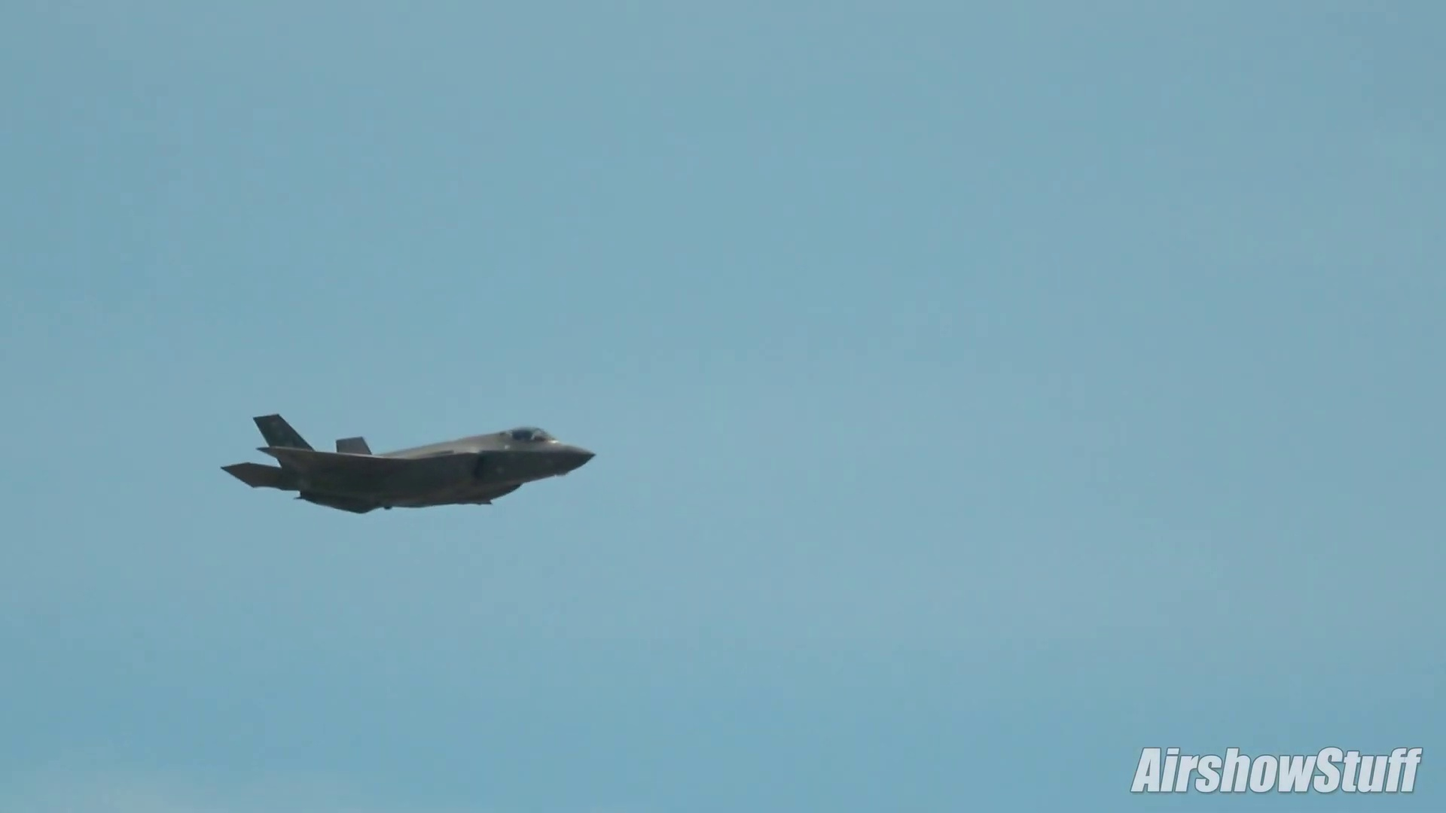F35: (217, 410, 599, 519)
